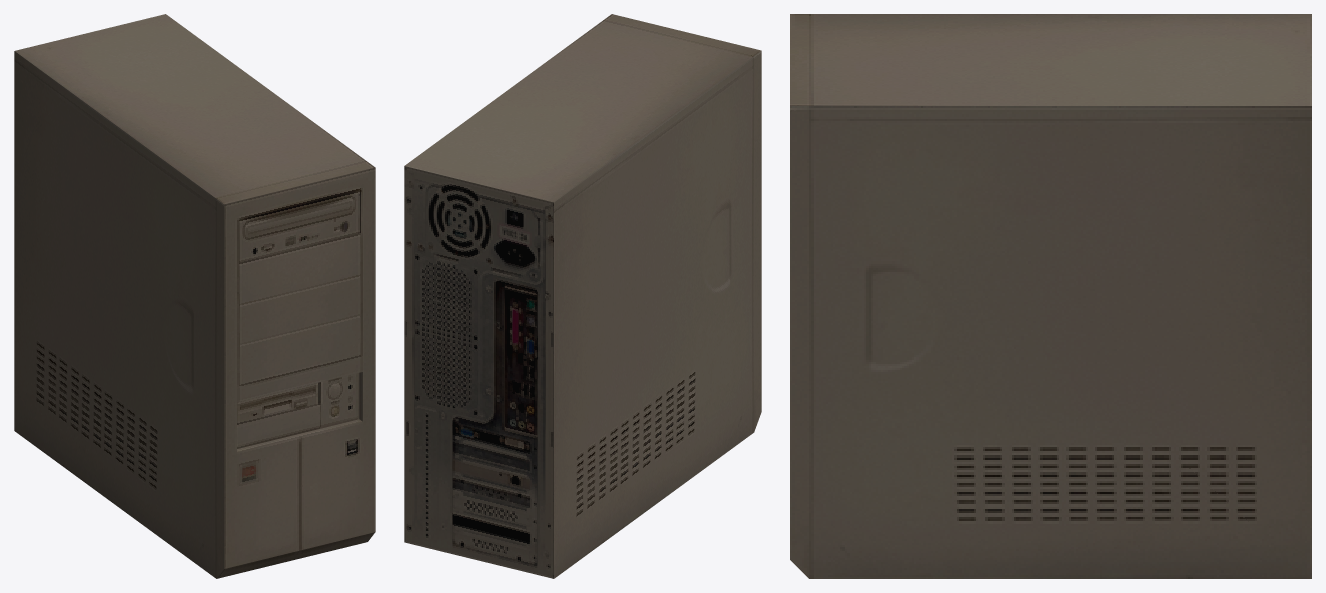
3 renders of one model, left to right at view 1: azimuth 30°, elevation 25°; view 2: azimuth 150°, elevation 25°; view 3: azimuth 270°, elevation 25°, orthographic. The views are drawn at different scales.
Parts seen in each view (by area): view 1: pc_mp_1; view 2: pc_mp_1; view 3: pc_mp_1.
Boxes of the visible parts, x1,y1,x2,y2 form: pc_mp_1: (14, 14, 375, 578); pc_mp_1: (404, 14, 761, 578); pc_mp_1: (790, 14, 1311, 578).
Size of the model in its own units: 0.2295 by 0.5508 by 0.5508.
Materials: 1 (1 with a texture image).
